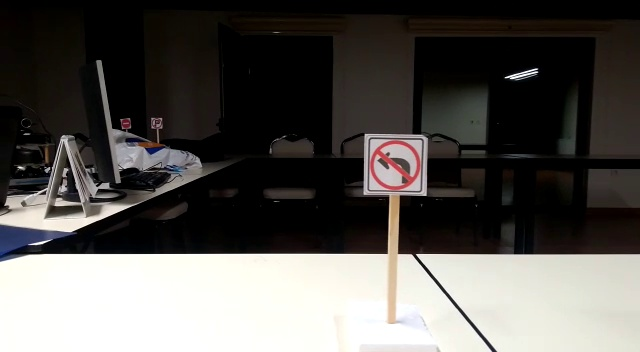sola_donulmez: (367, 138, 421, 189)
